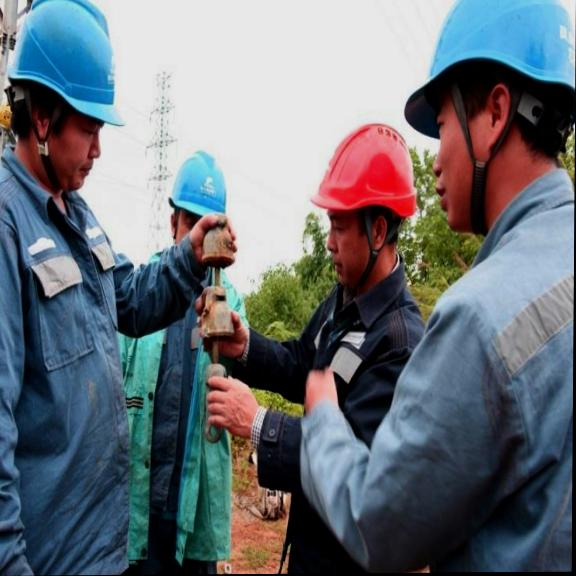no_safety_vest: (437, 171, 574, 566), (0, 183, 123, 545)
